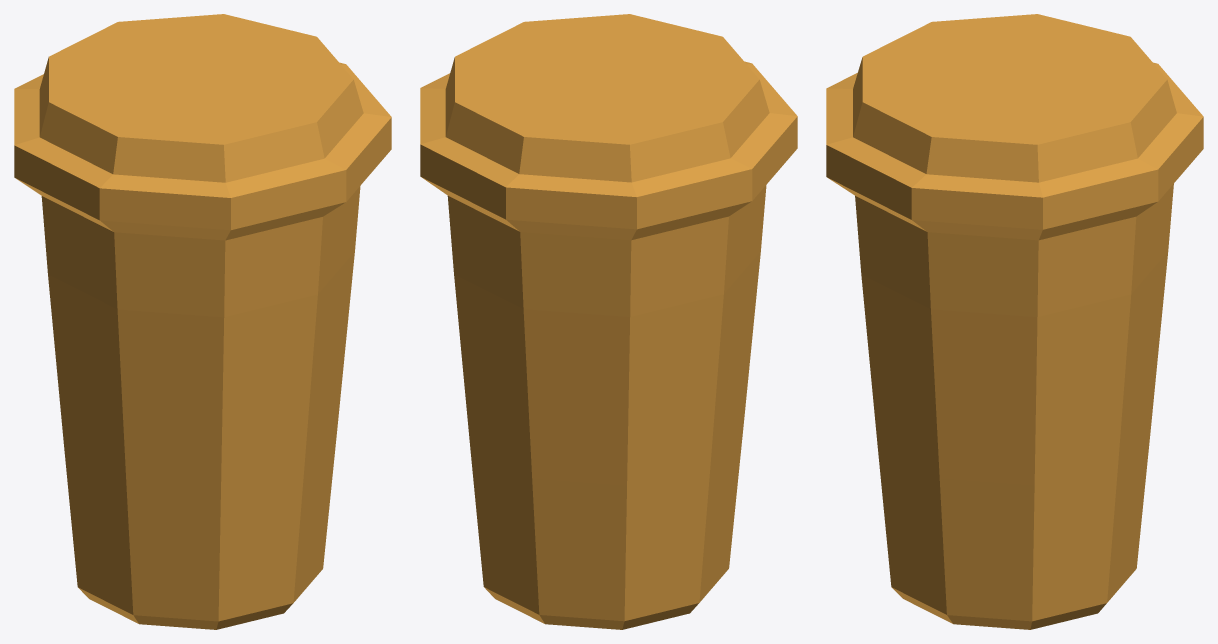
Rendered from drinks-coffee-cup-paper.glb.
3 renders of one model, left to right at view 1: azimuth 30°, elevation 25°; view 2: azimuth 150°, elevation 25°; view 3: azimuth 270°, elevation 25°, orthographic.
Parts seen in each view (by area): view 1: coffee-cup-paper; view 2: coffee-cup-paper; view 3: coffee-cup-paper.
Boxes of the visible parts, x1,y1,x2,y2 form: coffee-cup-paper: [14, 14, 391, 629]; coffee-cup-paper: [420, 14, 797, 629]; coffee-cup-paper: [826, 14, 1203, 629].
Size of the model in its own units: 0.1045 by 0.1513 by 0.1029.
